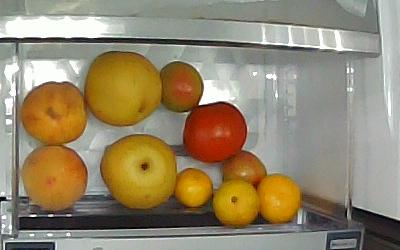peach: (21, 145, 88, 212), (20, 82, 88, 145)
pear: (100, 134, 177, 210), (86, 52, 162, 126)
tangerine: (212, 180, 260, 228), (258, 173, 300, 225), (175, 167, 213, 208)
tomato: (184, 102, 247, 163), (160, 61, 204, 113), (222, 151, 268, 185)
